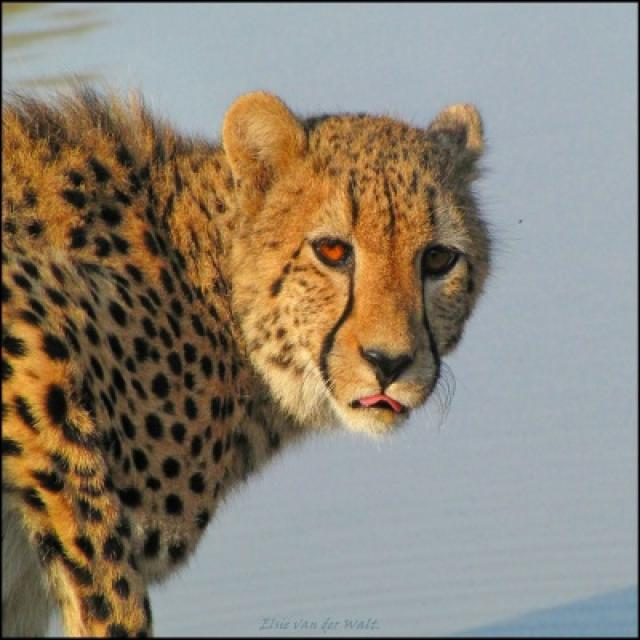Cheetah: (3, 90, 490, 635)
